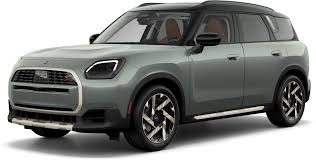car: (5, 3, 316, 147)
